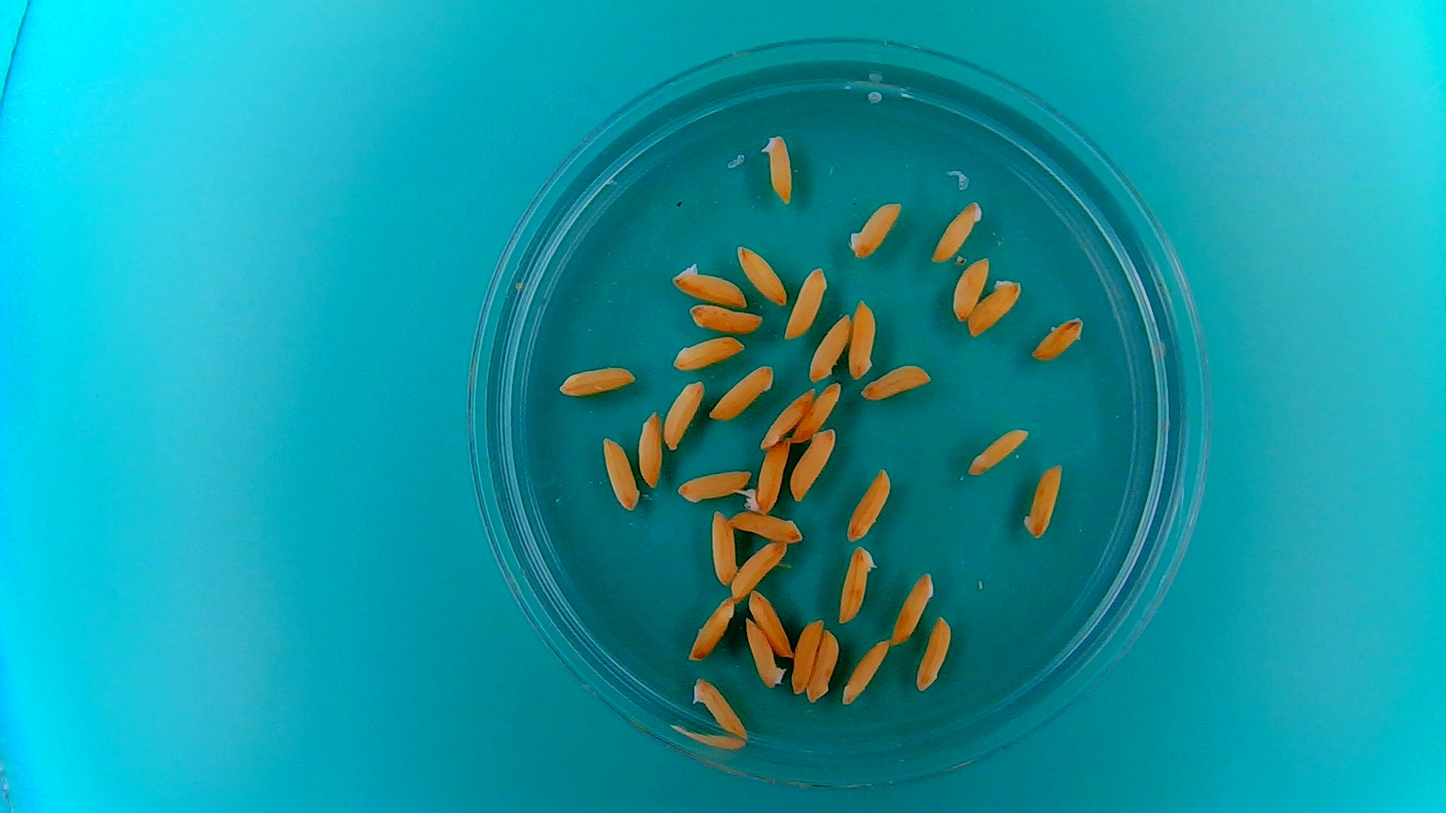no: (690, 673, 750, 741), (707, 362, 776, 421), (728, 538, 789, 601), (844, 464, 892, 543), (759, 385, 815, 451), (789, 426, 837, 503), (670, 260, 750, 306), (929, 198, 984, 263), (804, 627, 848, 708), (967, 276, 1023, 339), (1020, 461, 1064, 541), (782, 264, 828, 340), (836, 544, 879, 625), (847, 198, 904, 259), (686, 594, 737, 662), (660, 377, 706, 452), (840, 639, 889, 708), (966, 425, 1031, 477), (890, 569, 935, 644), (746, 588, 793, 659), (807, 311, 852, 384), (792, 380, 844, 443), (736, 243, 788, 306), (743, 617, 787, 691), (599, 434, 640, 513), (914, 615, 954, 693), (674, 465, 753, 504), (859, 361, 933, 401), (556, 362, 638, 398), (790, 616, 824, 697), (672, 333, 746, 370), (950, 255, 990, 322), (728, 509, 804, 544), (847, 295, 878, 380), (1031, 316, 1085, 362), (688, 303, 767, 333), (636, 408, 664, 490), (708, 508, 737, 587)
yes: (743, 437, 793, 515), (758, 132, 794, 205)
